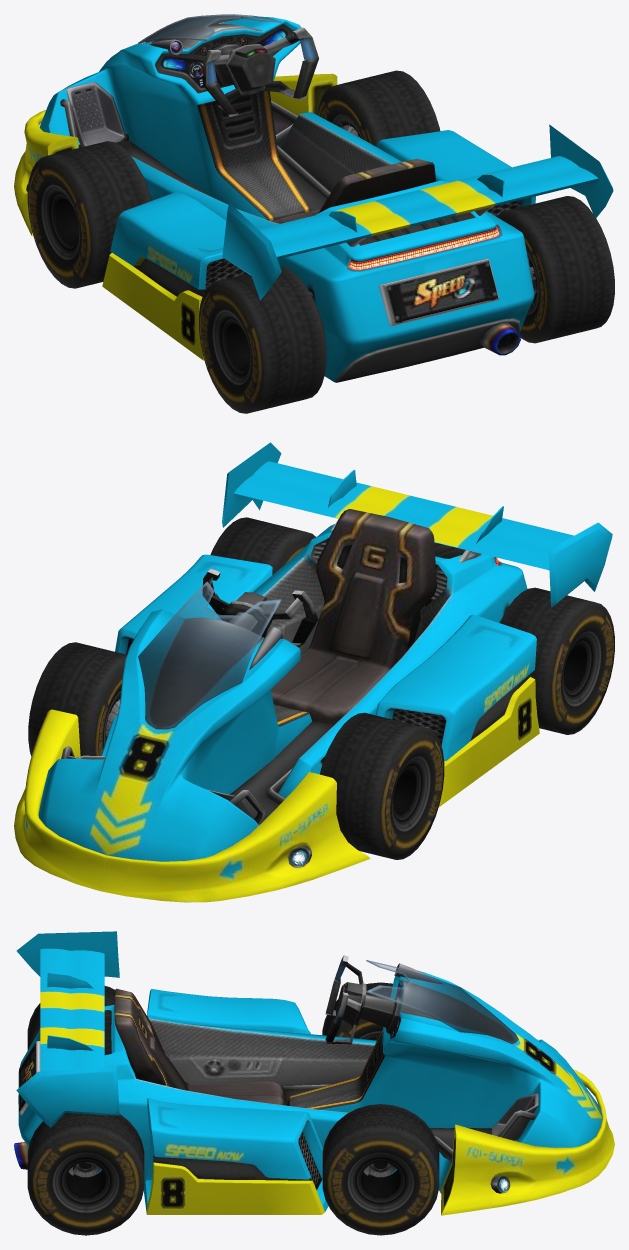
3 views of the same model, one above another, from view 1: azimuth 30°, elevation 25°; view 2: azimuth 150°, elevation 25°; view 3: azimuth 270°, elevation 25° (orthographic). The views are drawn at different scales.
Visible parts, largest first — view 1: body, wheel_rl, wheel_fl, wheel_rr, wheel_fr; view 2: body, wheel_fl, wheel_rl, wheel_fr, wheel_rr; view 3: body, wheel_fr, wheel_rr, wheel_fl, wheel_rl.
Part boxes in pixels (bbox=[...]): body: bbox=[14, 14, 613, 382]; wheel_rl: bbox=[199, 266, 326, 413]; wheel_fl: bbox=[27, 141, 151, 288]; wheel_rr: bbox=[497, 196, 614, 343]; wheel_fr: bbox=[317, 70, 440, 146]; body: bbox=[14, 442, 612, 902]; wheel_fl: bbox=[320, 712, 444, 859]; wheel_rl: bbox=[499, 587, 614, 734]; wheel_fr: bbox=[28, 642, 126, 756]; wheel_rr: bbox=[210, 517, 315, 574]; body: bbox=[14, 931, 614, 1215]; wheel_fr: bbox=[322, 1104, 439, 1235]; wheel_rr: bbox=[27, 1113, 144, 1235]; wheel_fl: bbox=[322, 982, 392, 1040]; wheel_rl: bbox=[27, 986, 114, 1049].
Size of the model in its own units: 1.95 by 1.14 by 3.3.
Materials: 4 (4 with a texture image).
